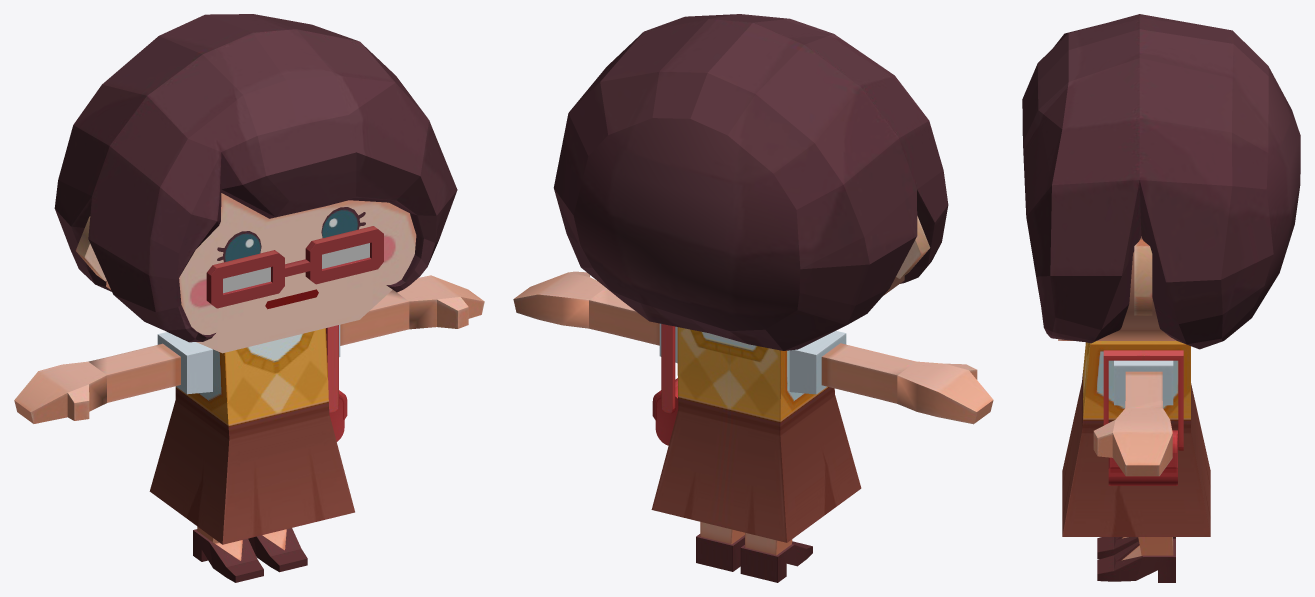
The model's file is 宝宝学汉字_角色_NPC老师.FBX.
3 renders of one model, left to right at view 1: azimuth 30°, elevation 25°; view 2: azimuth 150°, elevation 25°; view 3: azimuth 270°, elevation 25°, orthographic. The views are drawn at different scales.
Visible parts, largest first — view 1: 宝宝学汉字_角色_NPC老师; view 2: 宝宝学汉字_角色_NPC老师; view 3: 宝宝学汉字_角色_NPC老师.
Part boxes in pixels (x1=…): 宝宝学汉字_角色_NPC老师: x1=14, y1=14, x2=484, y2=582; 宝宝学汉字_角色_NPC老师: x1=513, y1=14, x2=993, y2=582; 宝宝学汉字_角色_NPC老师: x1=1022, y1=14, x2=1300, y2=582.
Bounding box in the file's own units: 88.5 × 97.94 × 46.18.
